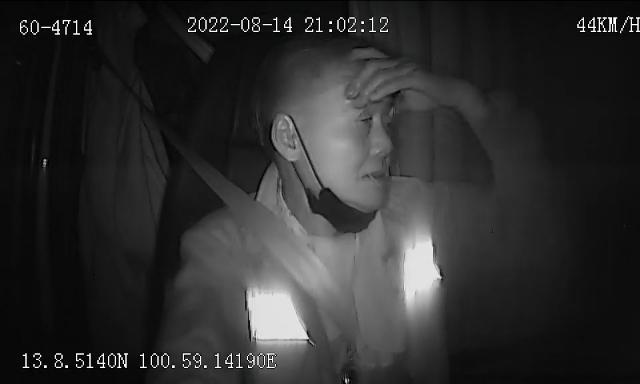Seatbelt: (166, 129, 360, 345)
